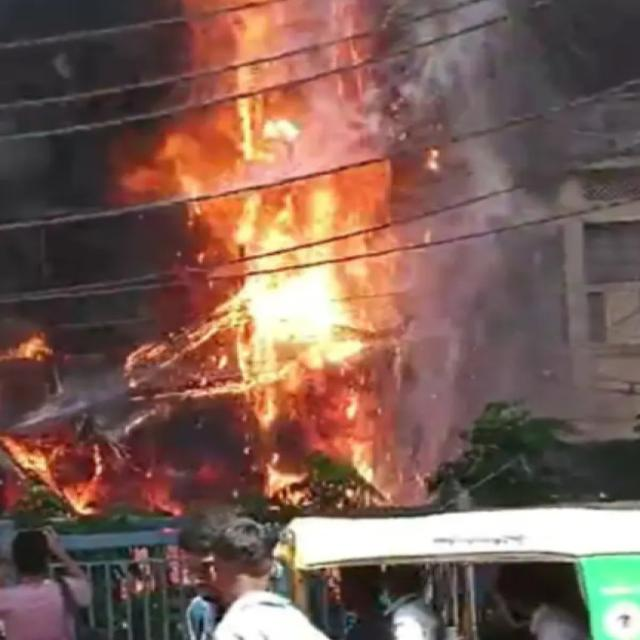fire: (119, 112, 298, 191), (218, 266, 363, 362), (234, 187, 345, 266), (2, 435, 94, 515), (334, 162, 391, 255), (347, 257, 400, 353), (238, 355, 304, 429), (225, 7, 275, 61), (264, 454, 306, 499)
